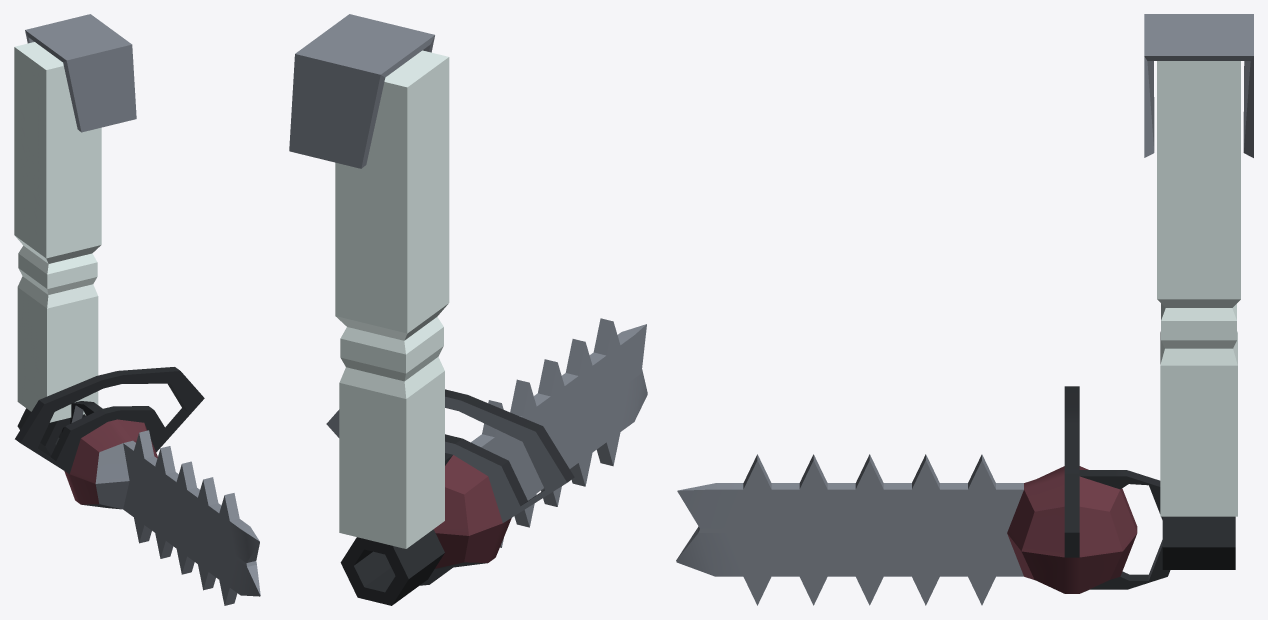
Rendered from ArmeGoundoum2.fbx.
The picture shows the model from 3 angles, left to right: view 1: azimuth 30°, elevation 25°; view 2: azimuth 150°, elevation 25°; view 3: azimuth 270°, elevation 25°; orthographic projection. The views are drawn at different scales.
Visible parts, largest first — view 1: BrasD, Tronconeuse, ProtegeBrasD, MainD; view 2: BrasD, Tronconeuse, ProtegeBrasD, MainD; view 3: Tronconeuse, BrasD, ProtegeBrasD, MainD.
Boxes of the visible parts, <box> form: BrasD: <box>14,42,101,422</box>; Tronconeuse: <box>15,367,260,605</box>; ProtegeBrasD: <box>25,14,136,132</box>; MainD: <box>17,408,85,456</box>; BrasD: <box>335,50,449,548</box>; Tronconeuse: <box>326,318,647,585</box>; ProtegeBrasD: <box>289,14,434,168</box>; MainD: <box>340,529,444,605</box>; Tronconeuse: <box>676,386,1170,605</box>; BrasD: <box>1157,61,1240,516</box>; ProtegeBrasD: <box>1144,14,1253,157</box>; MainD: <box>1162,516,1235,569</box>.
Bounding box in the file's own units: 0.6915 × 1.58 × 1.43.
1 material, 1 textured.
